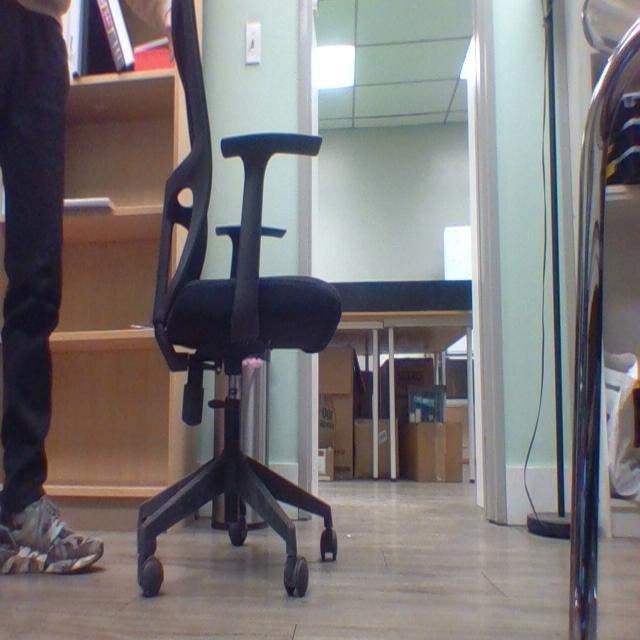chair: (112, 0, 407, 628)
